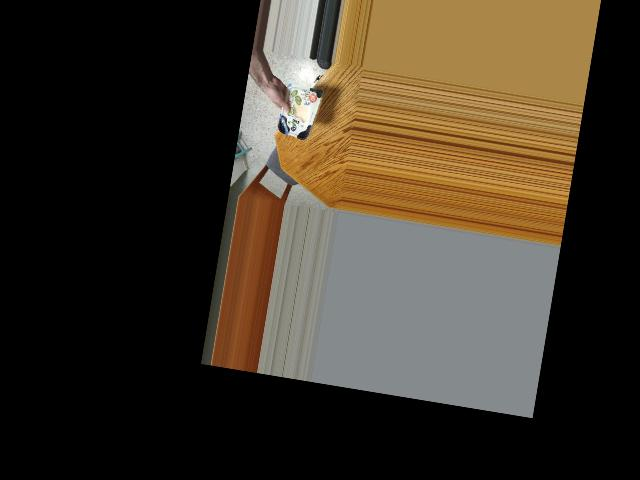cheese: (270, 81, 323, 141)
